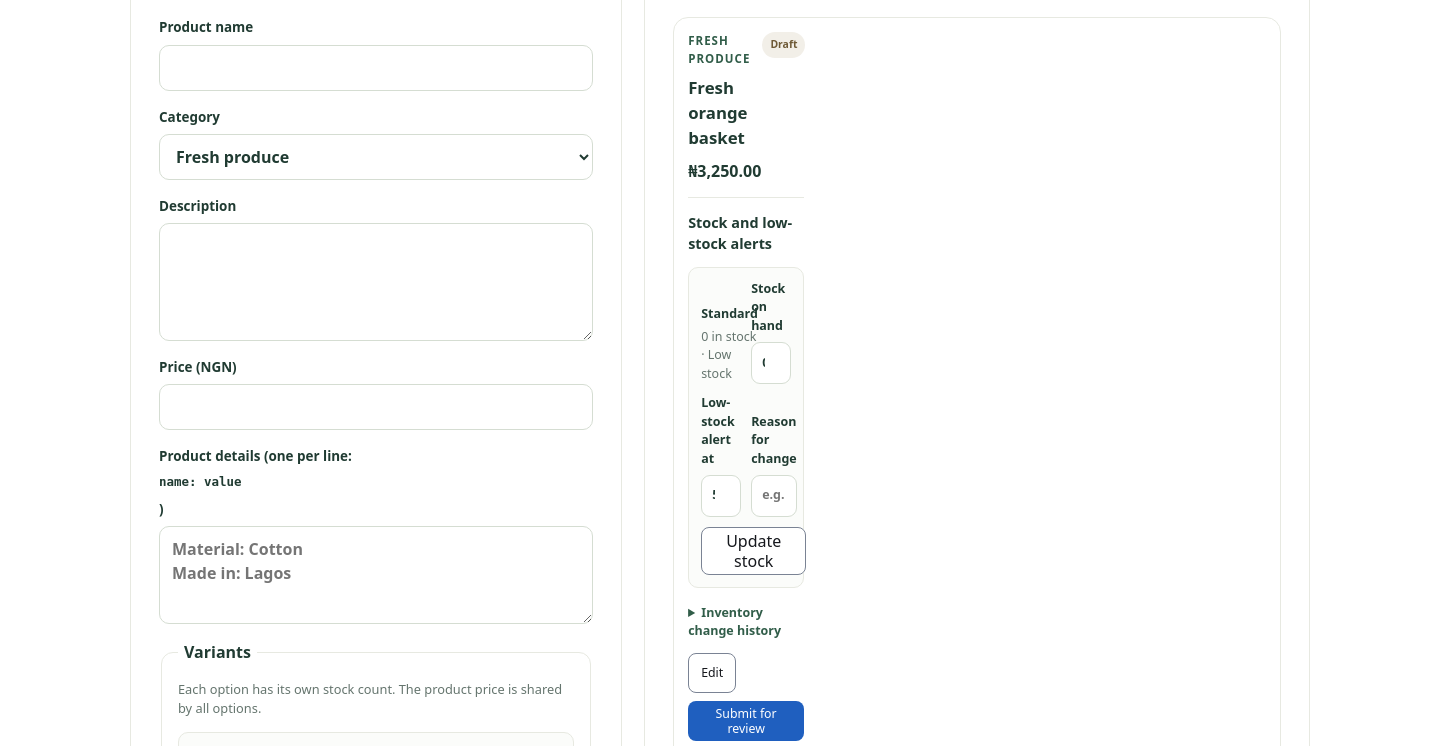
Test: seller product listings › updates stock through an audited inventory adjustment
(page scrolled)
Replace the text in the number field labelled "Stock on hand" with "8". click: (771, 363)
box: [751, 342, 791, 384]
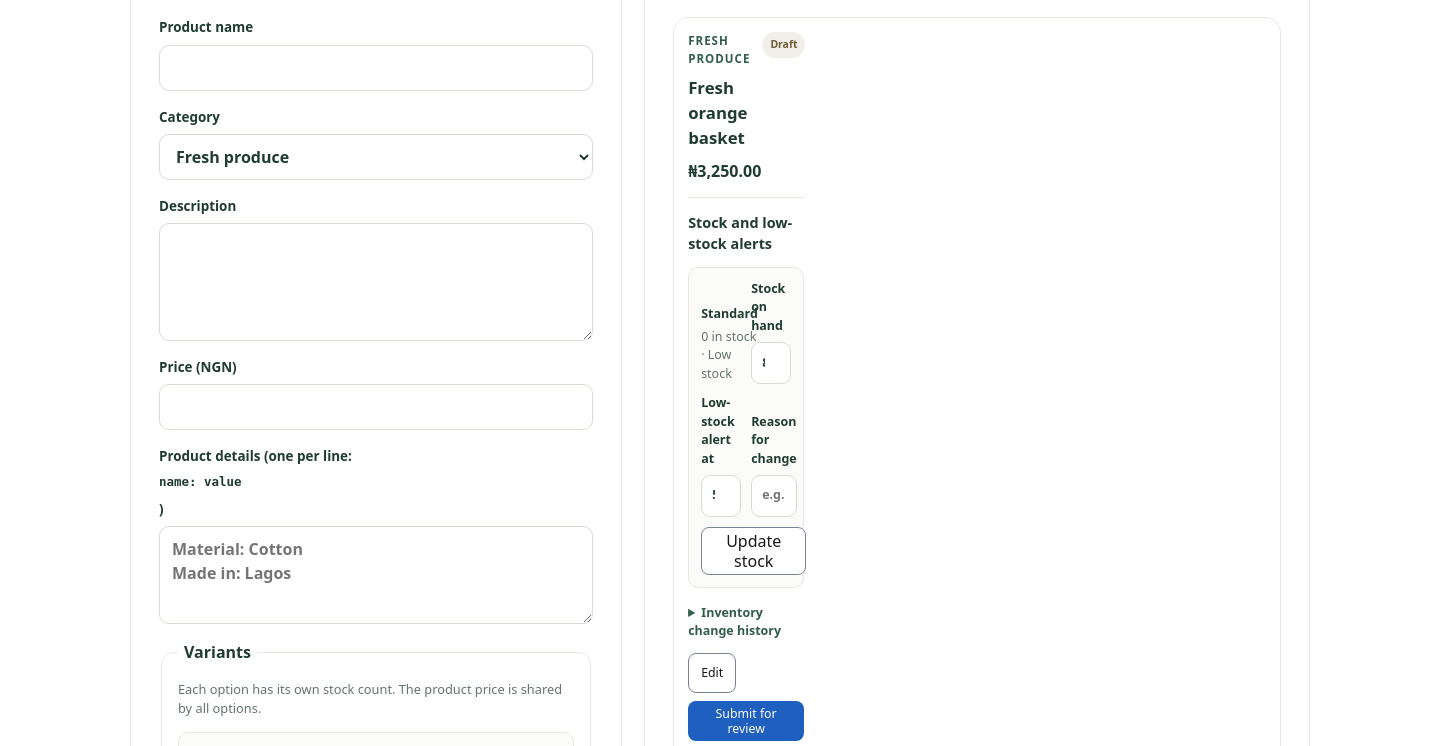
Replace the text in the number field labelled "Low-stock alert at" with "3". click: (721, 496)
box: [701, 475, 741, 517]
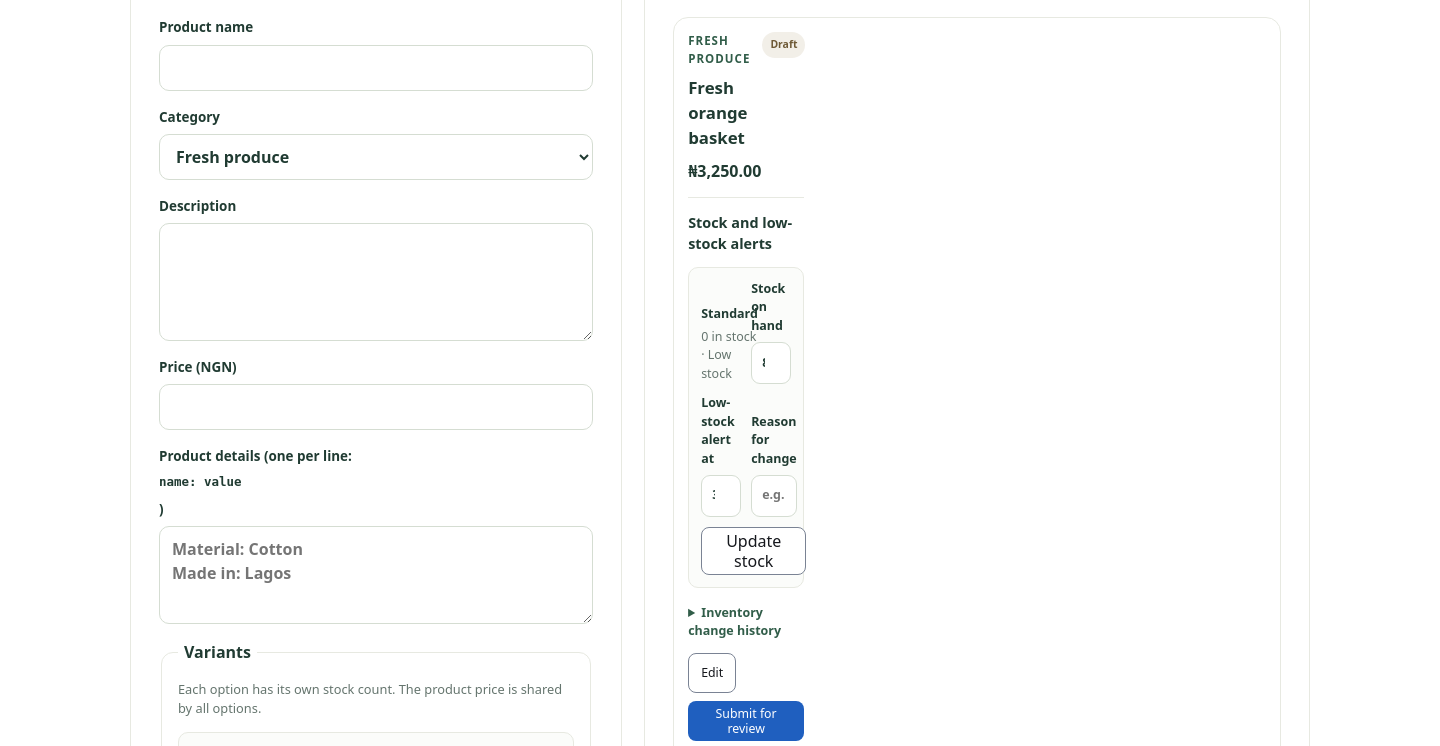
Type "Restocked from supplier" into the field labelled "Reason for change". click: (774, 496)
box: [751, 475, 797, 517]
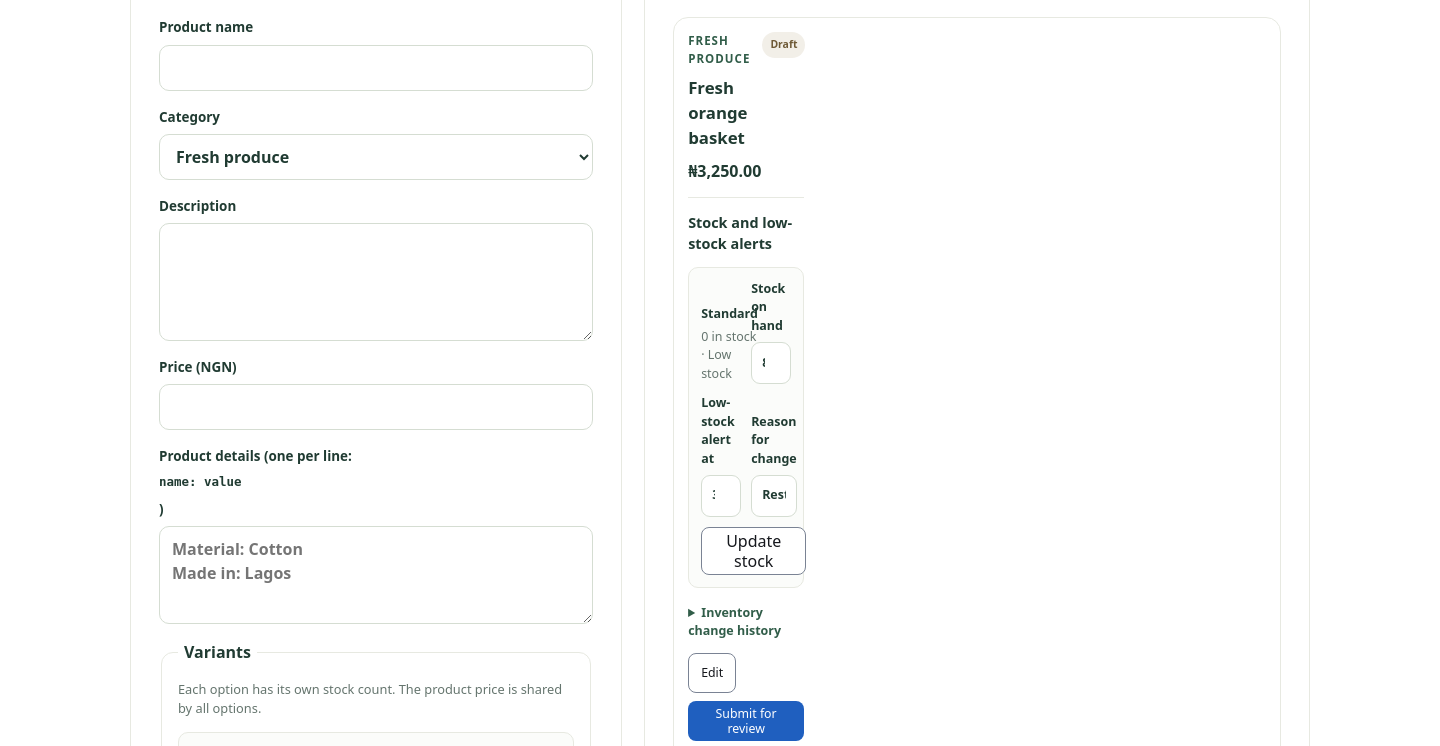
Click the button "Update stock". click: (754, 551)
box: [701, 527, 806, 575]
(page scrolled)
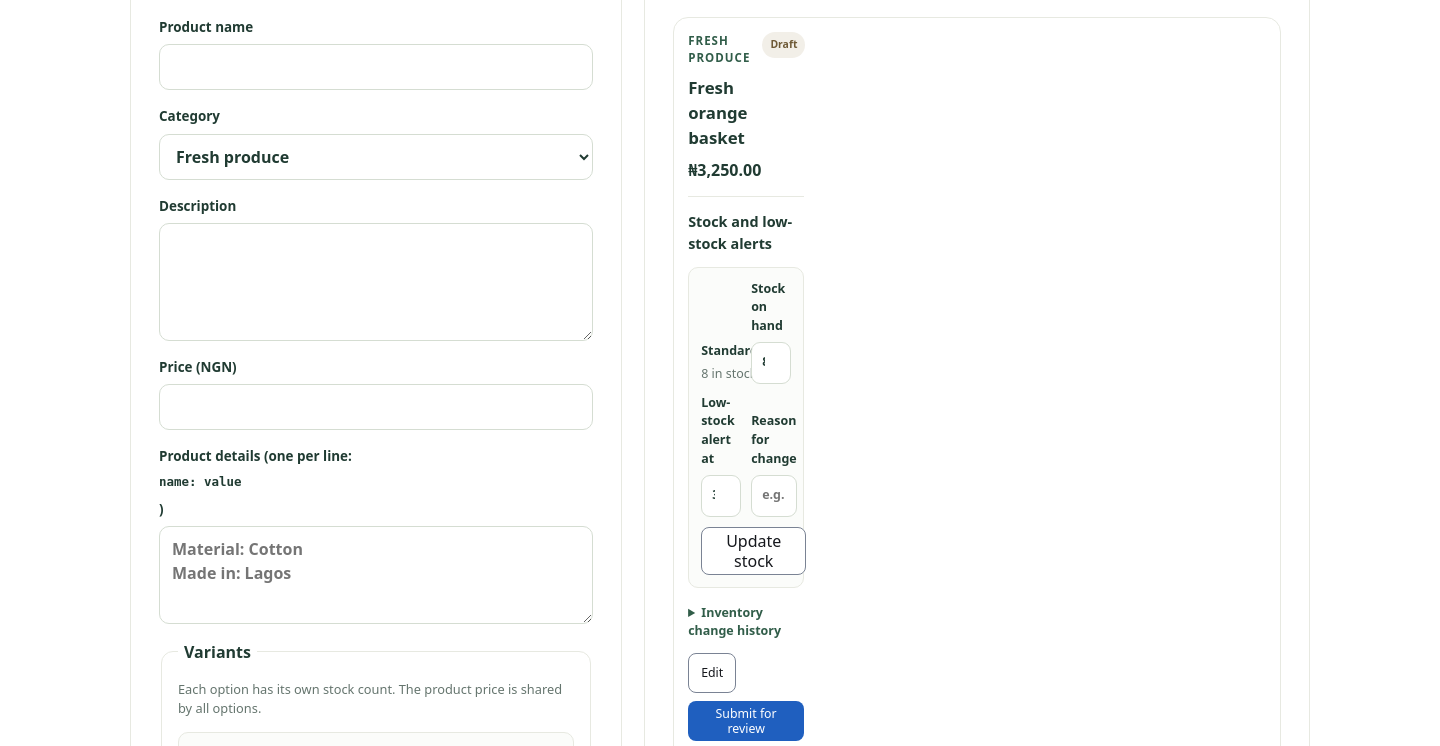
Click the heading "Inventory change history". click: (735, 621)
box: [688, 604, 781, 639]
(page scrolled)
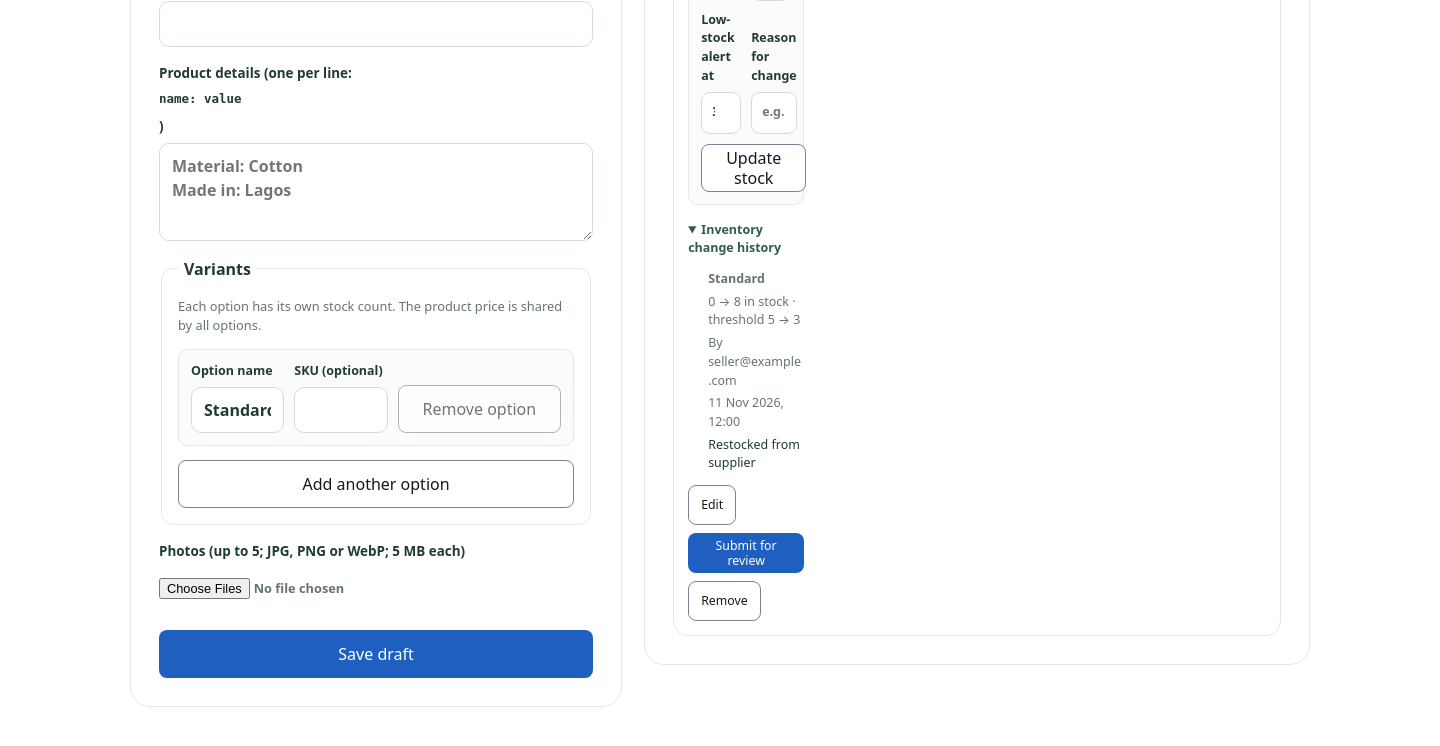
Now the text "Restocked from supplier" is shown, box [708, 436, 804, 473]
Now the text "By seller@example.com" is shown, box [708, 334, 804, 390]
